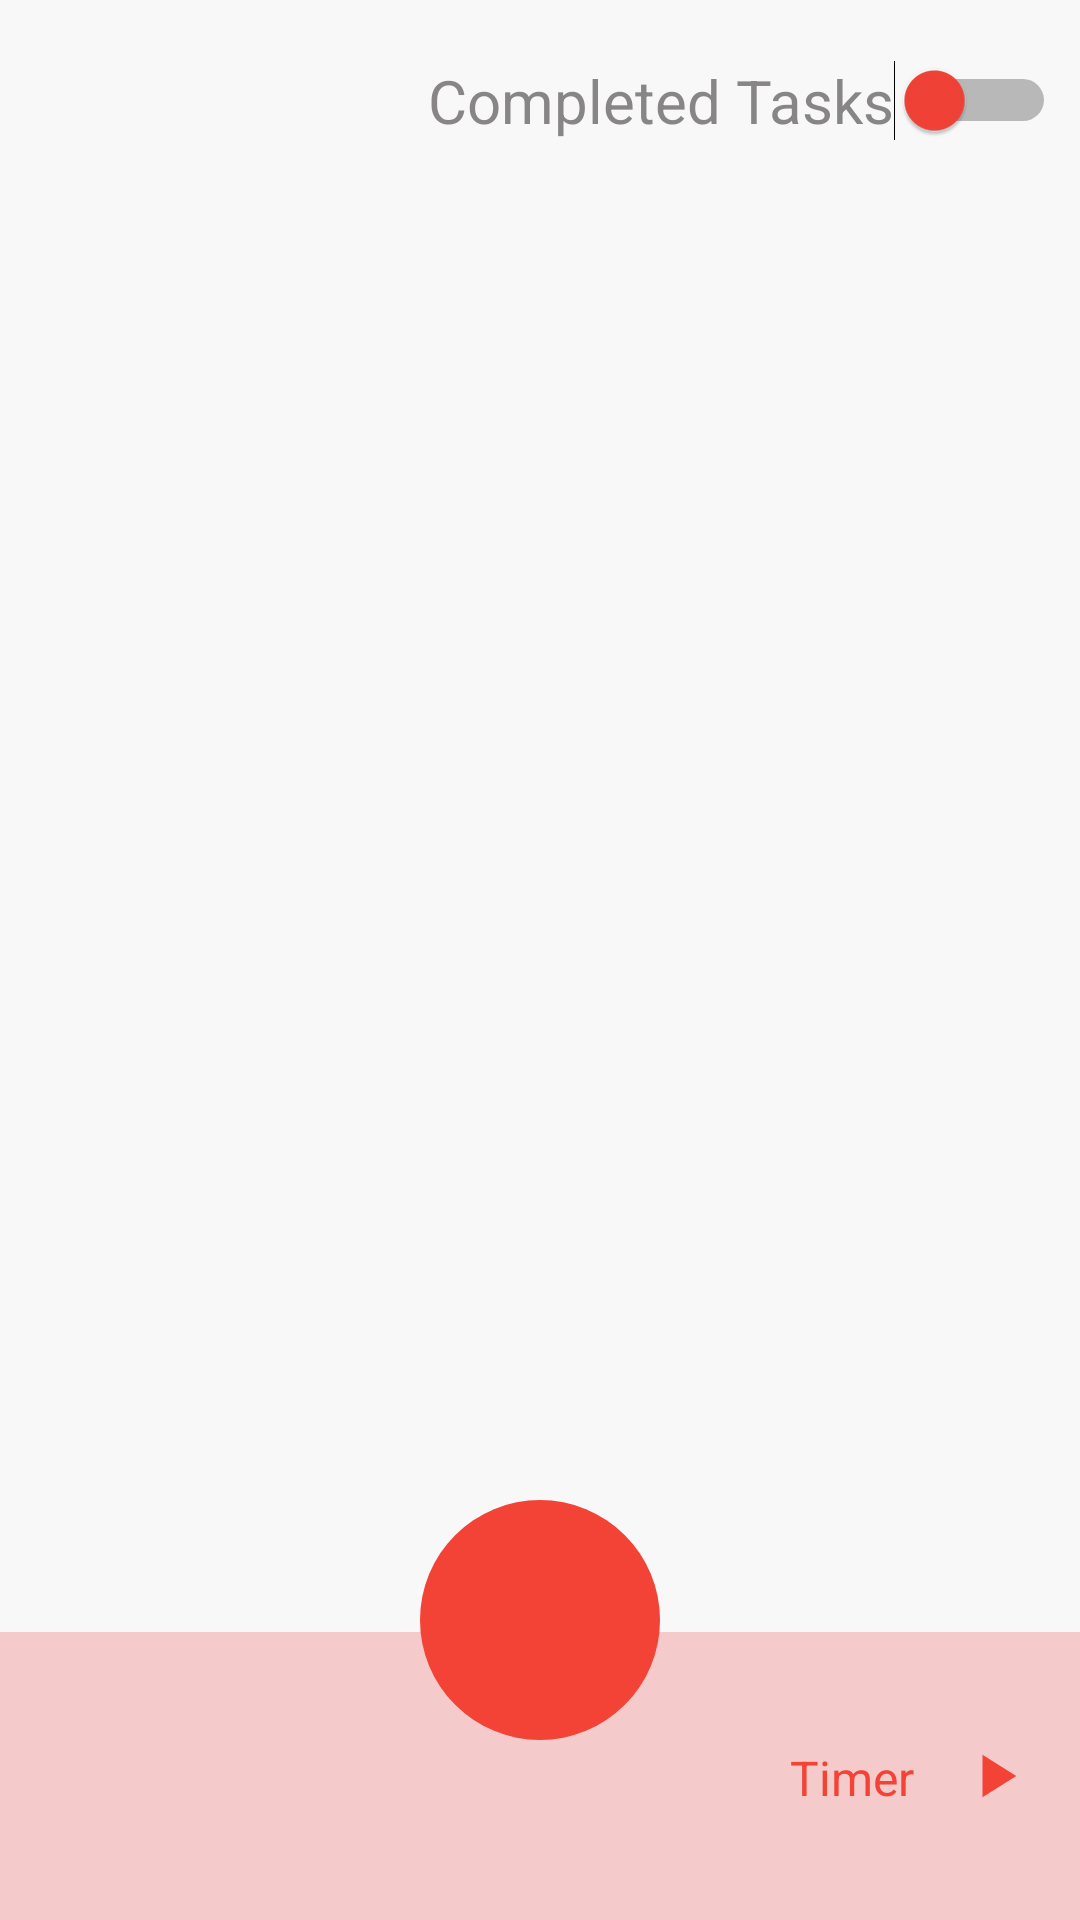

Screen size 1080 x 1920. Icon name, then its box in pixels as rect(x1, y1, x2, y2):
arrow right: rect(982, 1755, 1016, 1797)
